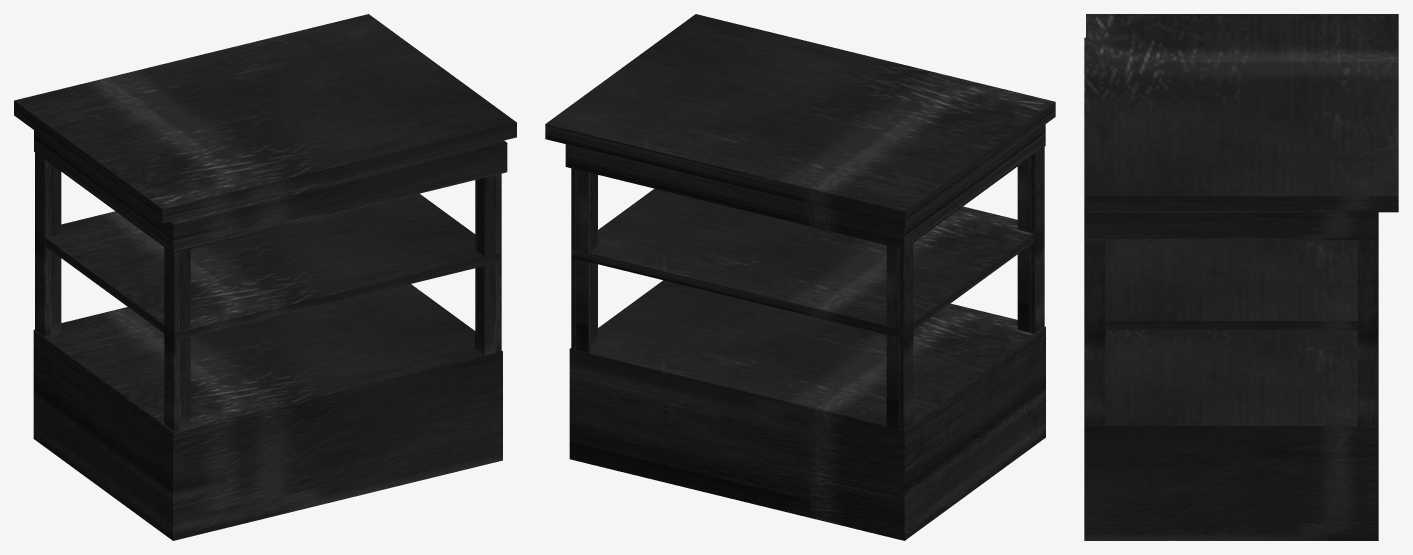
Rendered from paris_kitchen_counter_b_lod1.glb.
3 renders of one model, left to right at view 1: azimuth 30°, elevation 25°; view 2: azimuth 150°, elevation 25°; view 3: azimuth 270°, elevation 25°, orthographic. The views are drawn at different scales.
Visible parts, largest first — view 1: surf0; view 2: surf0; view 3: surf0.
Boxes of the visible parts, <box> form: surf0: <box>14,14,516,540</box>; surf0: <box>545,14,1055,540</box>; surf0: <box>1084,14,1398,540</box>.
Bounding box in the file's own units: 41.1 × 36.96 × 29.9.
